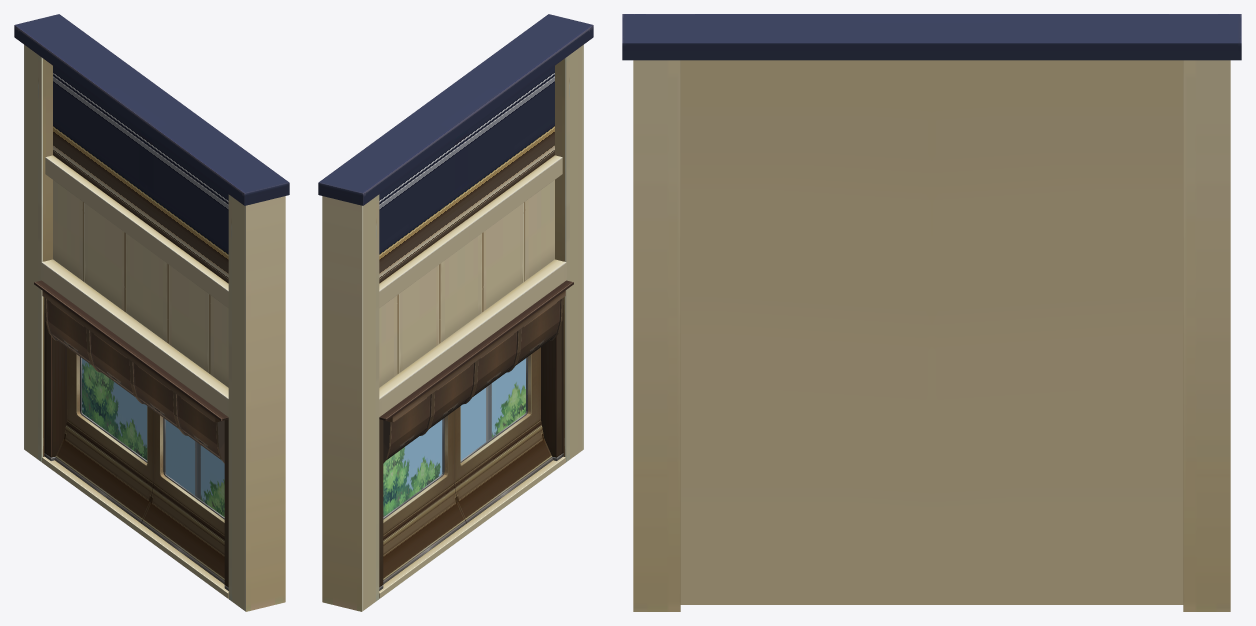
Rendered from my_highlander_01_window_01.glb.
3 renders of one model, left to right at view 1: azimuth 30°, elevation 25°; view 2: azimuth 150°, elevation 25°; view 3: azimuth 270°, elevation 25°, orthographic. The views are drawn at different scales.
Visible parts, largest first — view 1: my_highlander_01_window_01; view 2: my_highlander_01_window_01; view 3: my_highlander_01_window_01.
Part boxes in pixels (<box>): my_highlander_01_window_01: <box>14,14,289,611</box>; my_highlander_01_window_01: <box>318,14,593,611</box>; my_highlander_01_window_01: <box>622,14,1241,611</box>.
Bounding box in the file's own units: 0.00527 × 0.0454 × 0.0449.
Materials: 1 (1 with a texture image).
